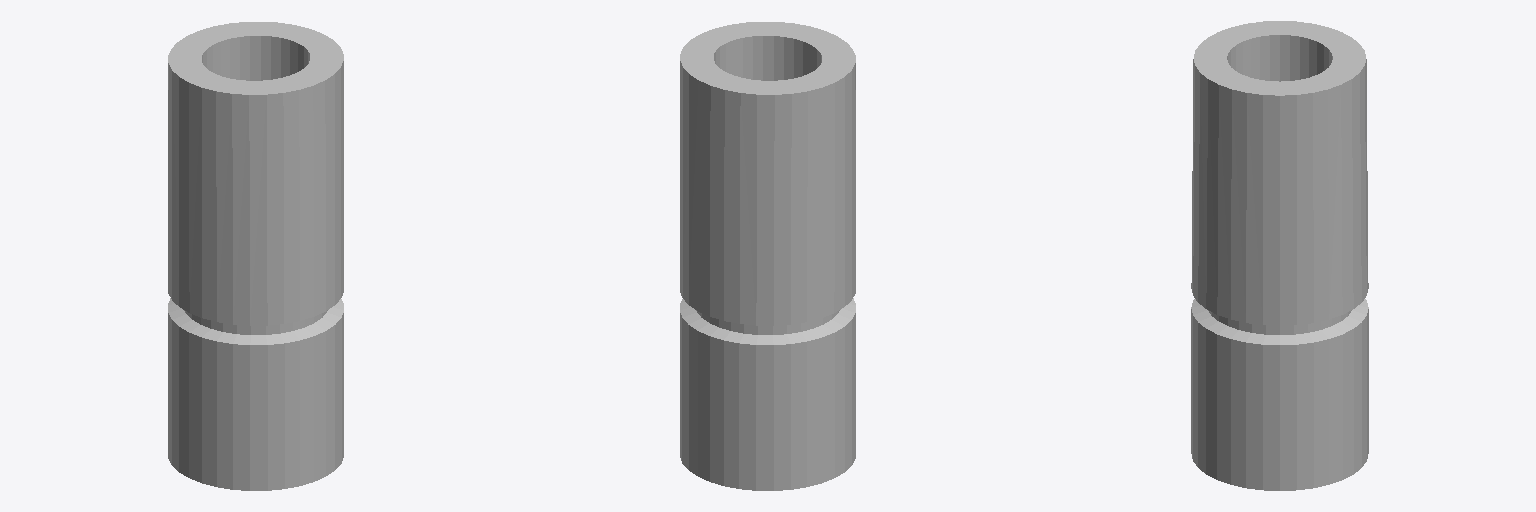
Rendered from Dark_Round_Tall_Hollow.obj.
3 renders of one model, left to right at view 1: azimuth 30°, elevation 25°; view 2: azimuth 150°, elevation 25°; view 3: azimuth 270°, elevation 25°, orthographic.
Visible parts, largest first — view 1: Dark_Round_Tall_Hollow; view 2: Dark_Round_Tall_Hollow; view 3: Dark_Round_Tall_Hollow.
Boxes of the visible parts, x1=… form: Dark_Round_Tall_Hollow: x1=168, y1=22, x2=343, y2=490; Dark_Round_Tall_Hollow: x1=680, y1=22, x2=855, y2=490; Dark_Round_Tall_Hollow: x1=1191, y1=21, x2=1368, y2=490.
Bounding box in the file's own units: 0.65 × 1.6 × 0.65.